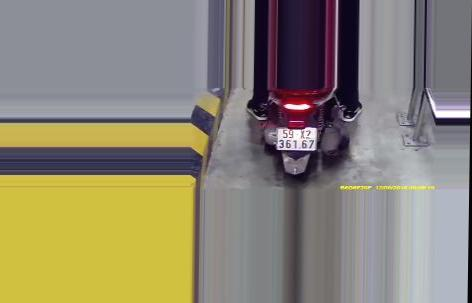License_Plate: (272, 124, 320, 155)
